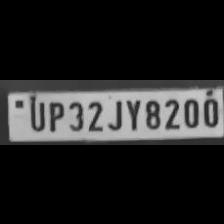0: (200, 94, 220, 125), (181, 94, 199, 128)
2: (84, 96, 104, 132), (161, 94, 181, 130)
3: (64, 97, 84, 131)
8: (141, 96, 161, 130)
J: (105, 96, 123, 130)
P: (44, 98, 64, 132)
U: (26, 97, 46, 131)
Y: (122, 96, 142, 130)
